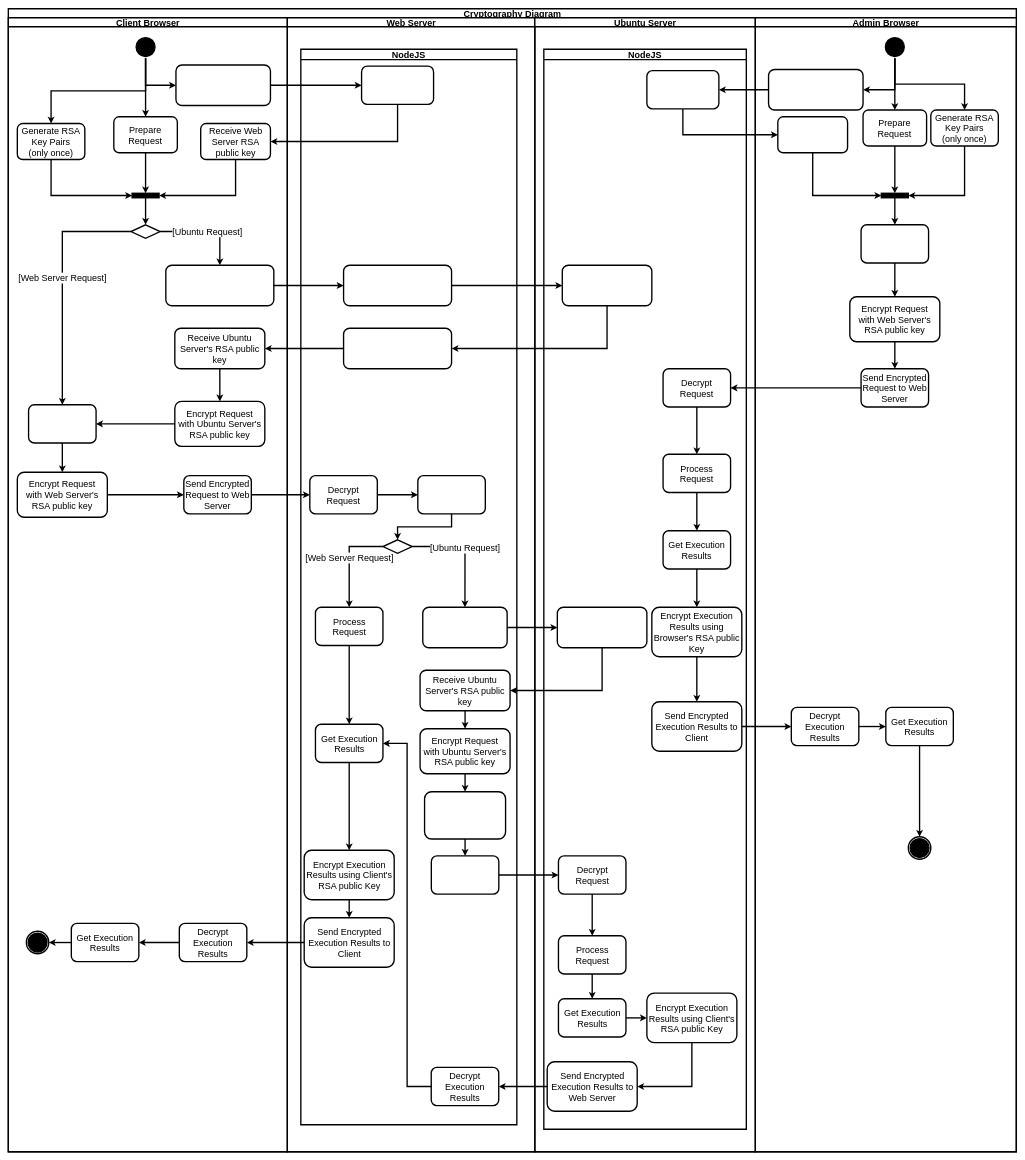
Image size: 1025x1160. Some labels were removed from this diagram. The centre of each missing label's shape, as x and y in pixels:
"Add Browser's RSA public key to request" goes at (894,243).
"Add Client's RSA public key to request" goes at (62,423).
"Add Web Server's RSA public key to request" goes at (465,815).
"Get Ubuntu Server's RSA public key" goes at (465,627).
"Preprocess Request" goes at (451,494).
"Provide Ubuntu RSA public key to Admin" goes at (682,89).
"Provide Ubuntu Server RSA Public key for Client" goes at (606,285).
"Provide Ubuntu Server RSA Public key for Web Server" goes at (601,627).
"Provide Web Server RSA Public key" goes at (397,85).
"Receive Ubuntu RSA public key" goes at (812,134).
"Send Encrypted Request to Ubuntu Server" goes at (464,875).
"Send get Ubuntu Server's RSA public key request" goes at (219,285).
"Send get Ubuntu's RSA public key request" goes at (816,89).
"Send get Web Server's RSA public key request" goes at (223,85).
"Transfer Ubuntu Server's RSA public key" goes at (397,348).
"Transfer Ubuntu Server's RSA public key request" goes at (397,285).
